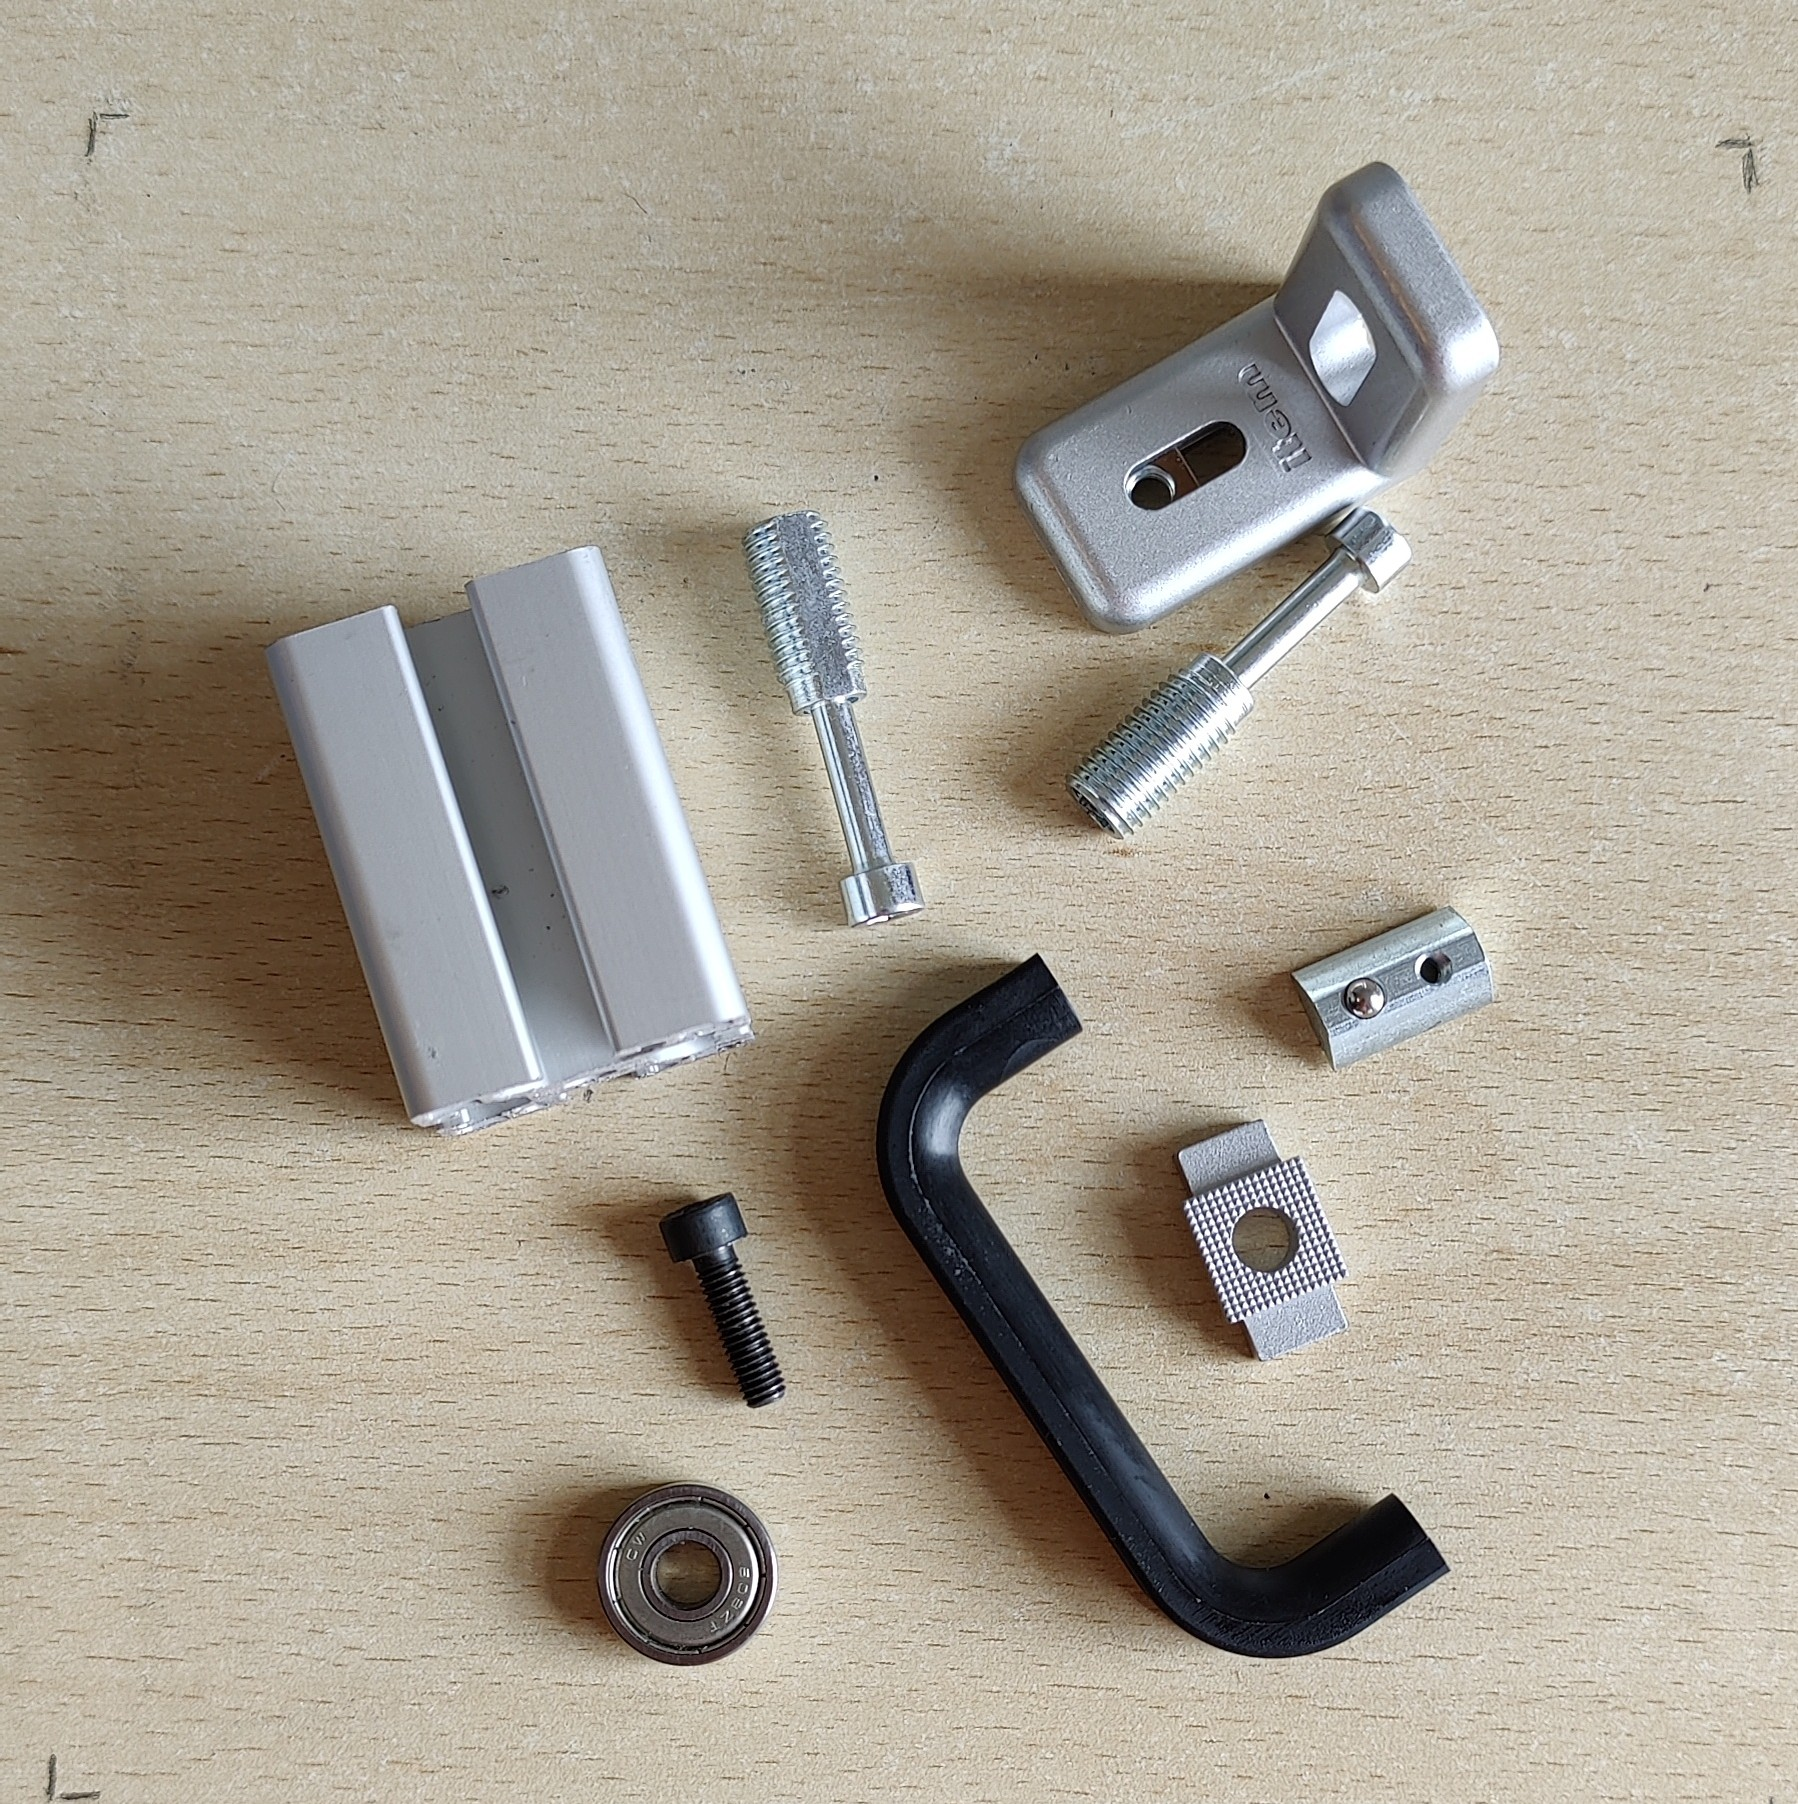Aluminium Extension: (259, 545, 761, 1142)
Ball Bearing: (591, 1481, 779, 1667)
Multiwinkel: (1009, 156, 1502, 639)
Pull Handle: (873, 945, 1456, 1661)
Shoulder Socket Head Cap Screw: (1064, 504, 1413, 843), (739, 509, 929, 932)
Socket Head Cap Screw: (655, 1187, 787, 1411)
T Nut Square: (1174, 1118, 1352, 1366)
T Spring Nut: (1288, 900, 1498, 1073)
